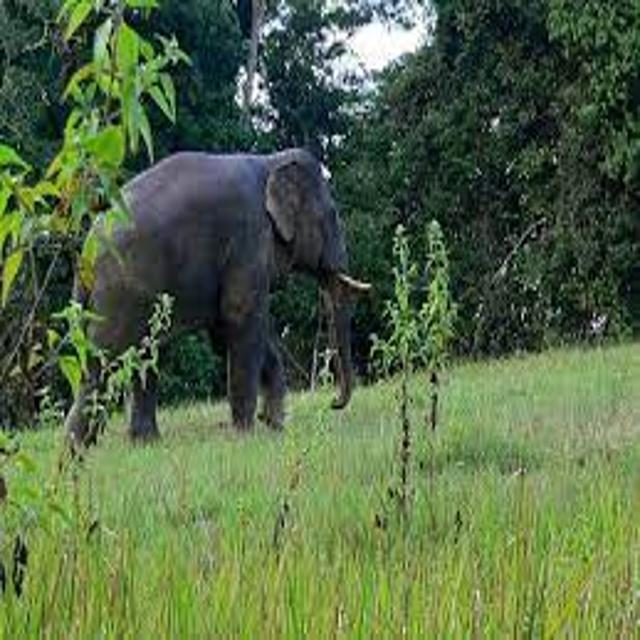elephant: (28, 125, 395, 499)
